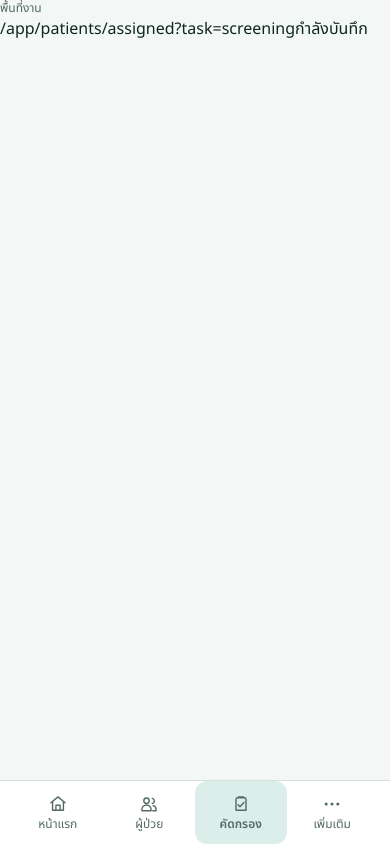
unified mobile bottom navigation › asks before navigating from More when a pending action is active
What coordinates should you click on to do the following:
click the link with aria-label "เปิดเมนูเพิ่มเติม"
I would click on:
 (332, 813)
Its box is [314, 794, 351, 832].
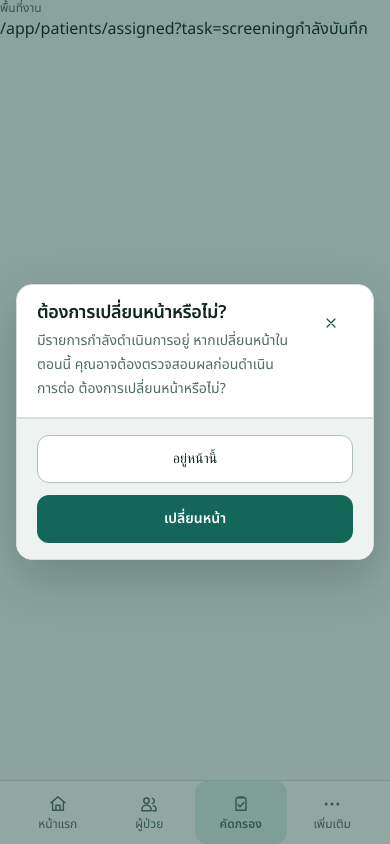
Expected: the dialog shows "มีรายการกำลังดำเนินการอยู่", [37, 330, 288, 399]
What coordinates should you click on to do the following:
click the button "อยู่หน้านี้"
I would click on:
 (195, 459)
Its box is [37, 435, 353, 483].
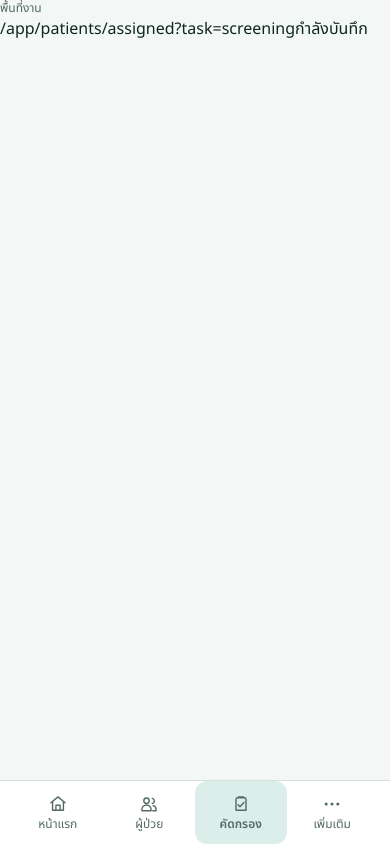
Expected: the dialog is gone
